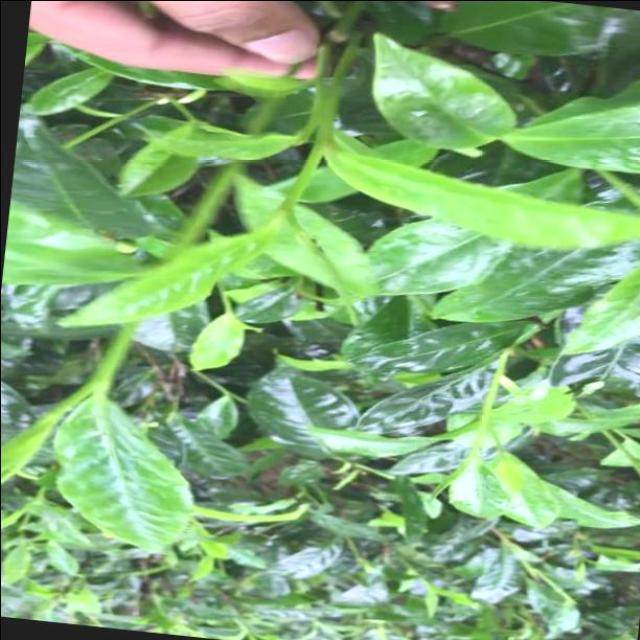Stem: (92, 377, 105, 390), (281, 202, 292, 217)
